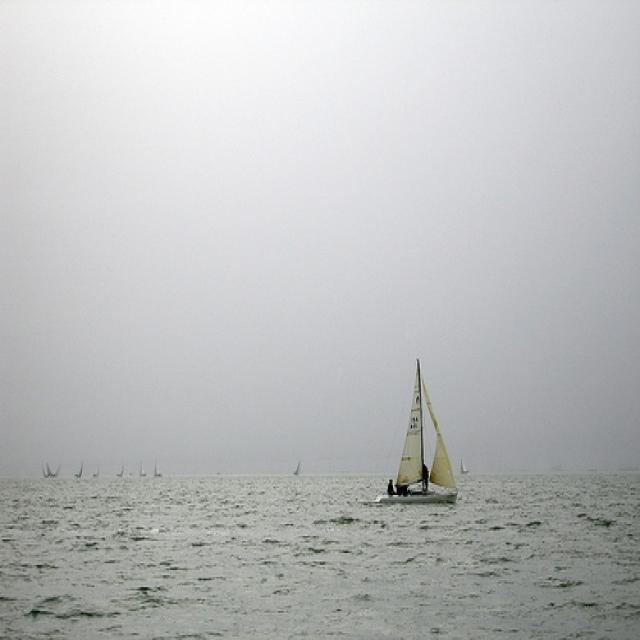Ship: (393, 354, 468, 509)
